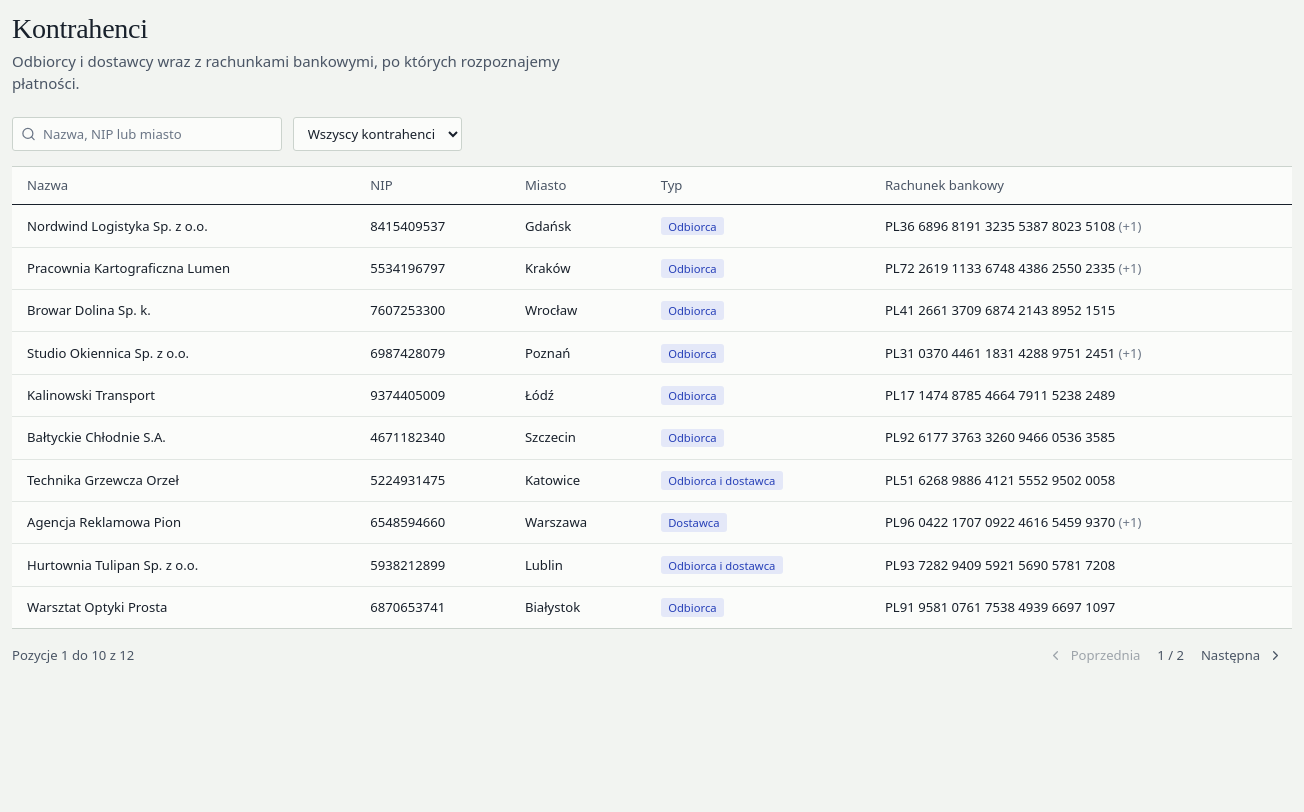
Test: CounterpartiesPage › filtruje listę po wpisaniu tekstu
Expected: the text "Nordwind Logistyka Sp. z o.o." is shown, left=27, top=216, right=208, bottom=234
Step 1. Type "Browar" into the search field named "Szukaj kontrahenta" → (147, 134), box left=12, top=117, right=282, bottom=151
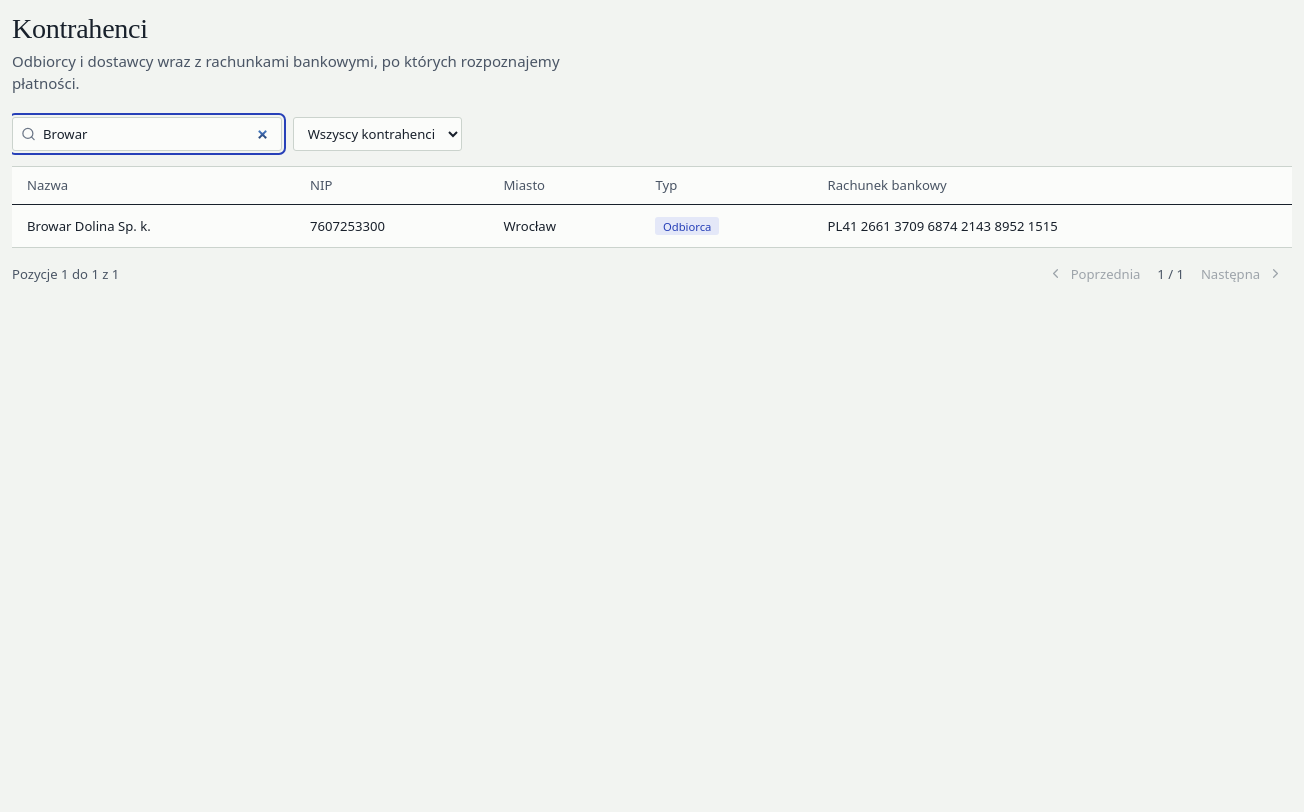
Expected: the text "Browar Dolina Sp. k." is shown, left=27, top=216, right=151, bottom=234
Expected: the text "Nordwind Logistyka Sp. z o.o." is gone
